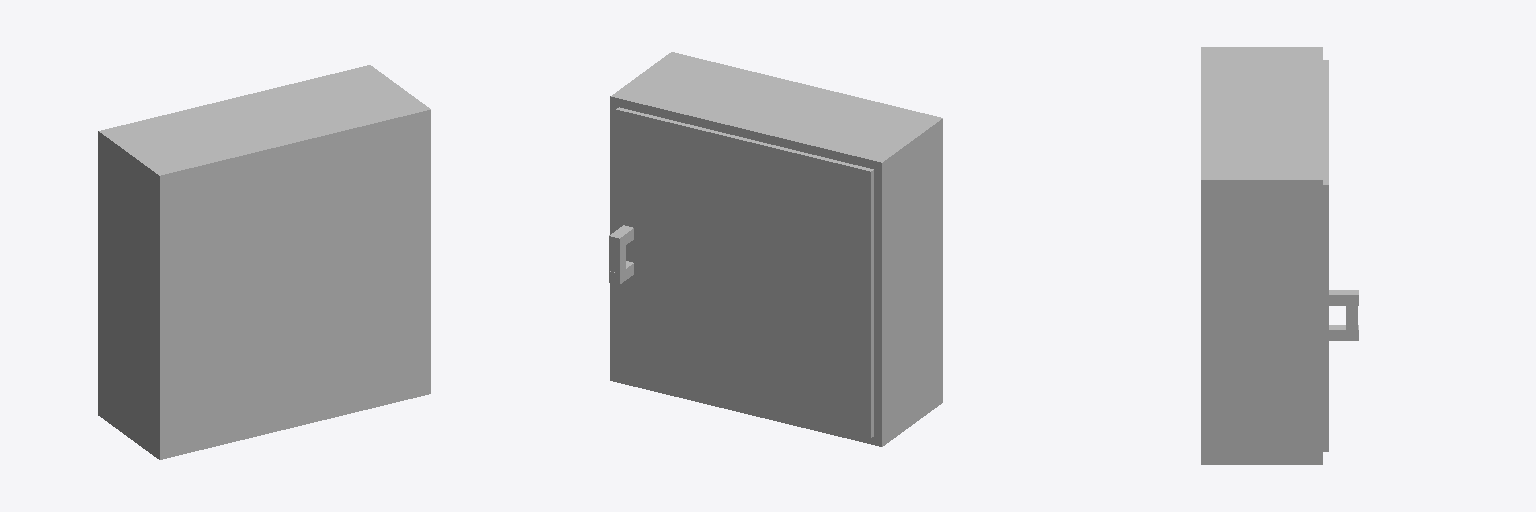
The model's file is kitchen cabinet.obj.
3 renders of one model, left to right at view 1: azimuth 30°, elevation 25°; view 2: azimuth 150°, elevation 25°; view 3: azimuth 270°, elevation 25°, orthographic.
Visible parts, largest first — view 1: Cube; view 2: Cube.001, Cube; view 3: Cube, Cube.001.
Boxes of the visible parts, box(x1,y1,x2,y2) form: Cube: box(98, 65, 430, 459); Cube.001: box(616, 107, 873, 437); Cube: box(610, 52, 942, 446); Cube: box(1201, 47, 1322, 464); Cube.001: box(1323, 60, 1328, 451).
Size of the model in its own units: 2 by 2 by 1.01.